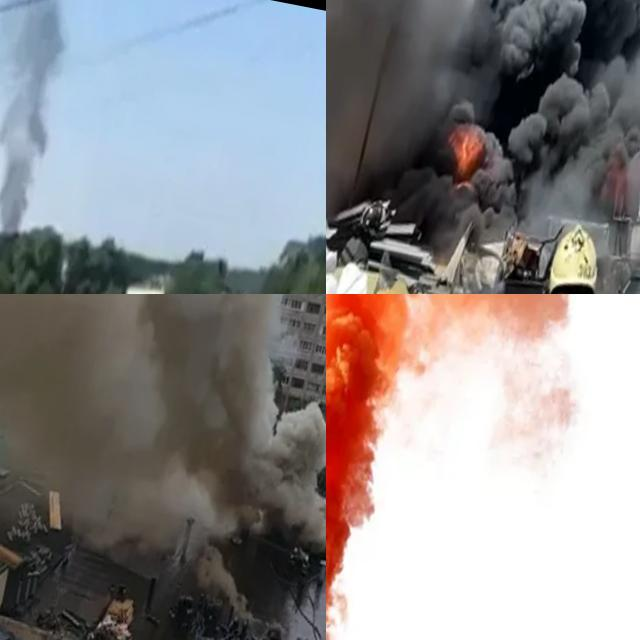smoke: (326, 294, 629, 640), (0, 294, 326, 585), (353, 0, 640, 277), (0, 0, 85, 239)
